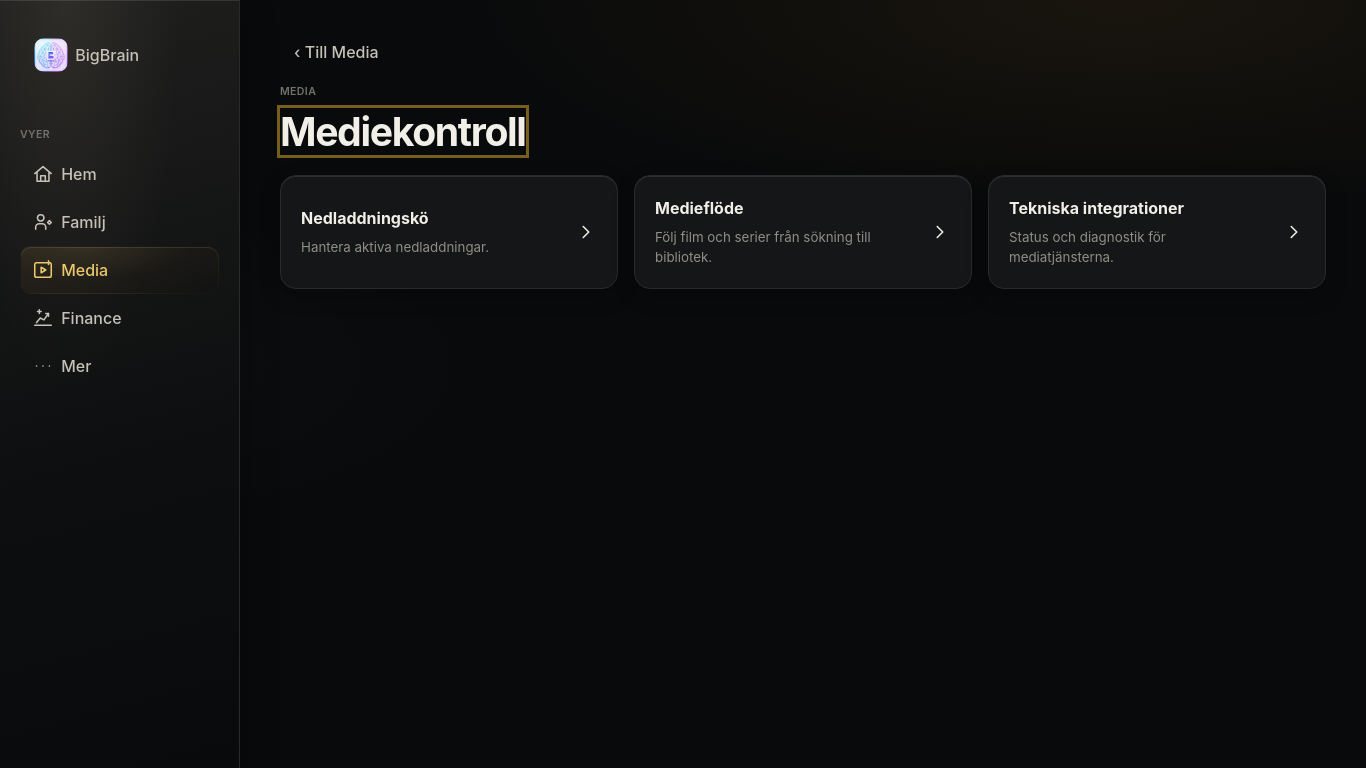
Test: Medieflöde mounts only its function; leaving aborts requests and stops polling
This screenshot has width=1366, height=768.
Click the link "Medieflöde Följ film och serier från sökning till bibliotek." at (803, 232), box [634,175,972,289]
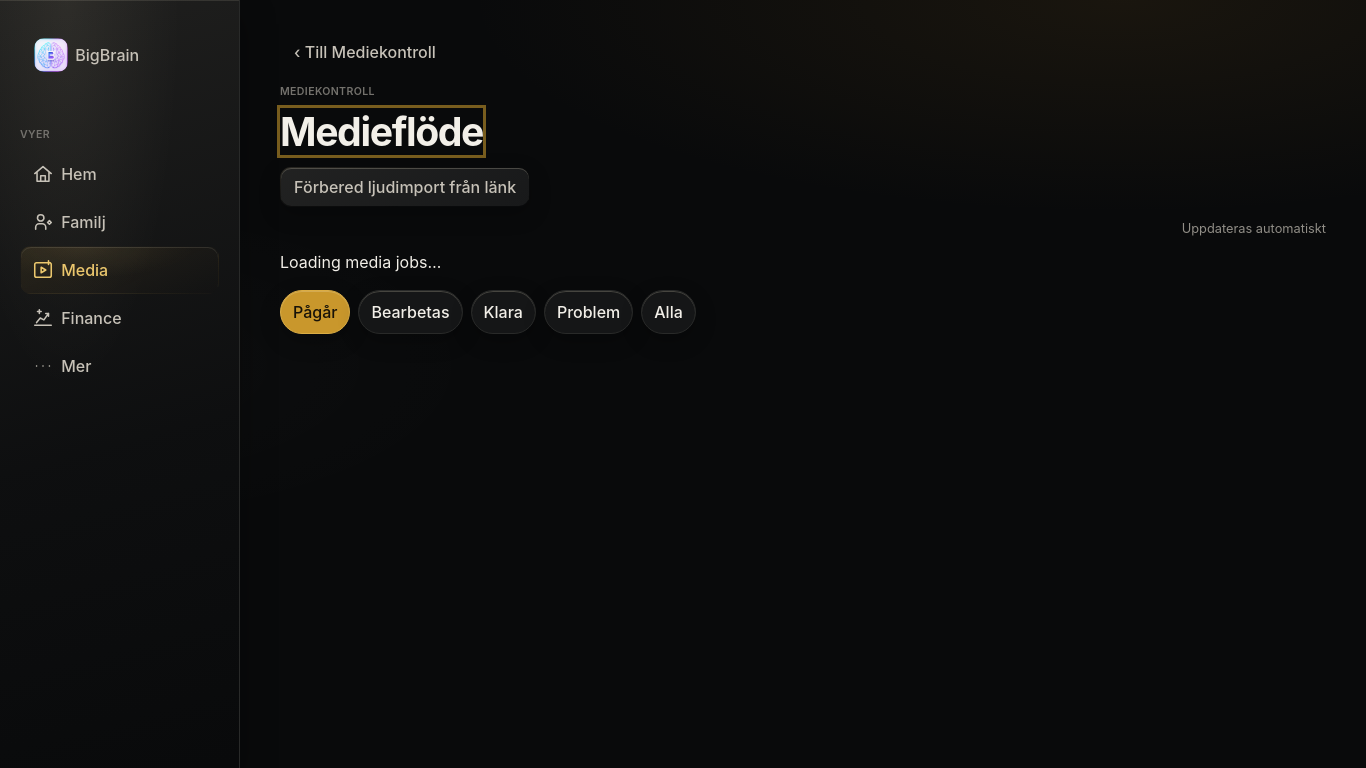
Click the link "‹ Till Mediekontroll" at (365, 52), box [294,42,436,62]
Wait 90000 ms
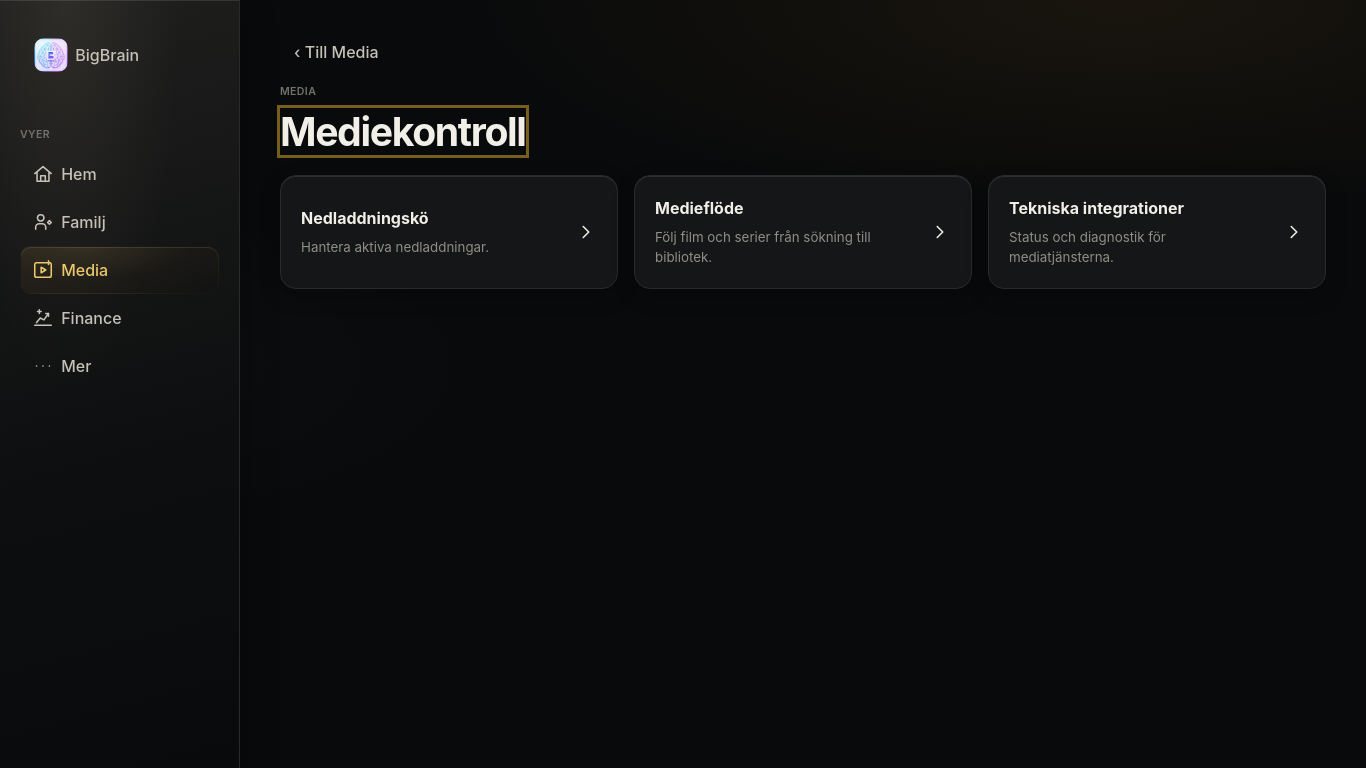
Expected: the heading "Mediekontroll" is shown, [280,108,526,155]
